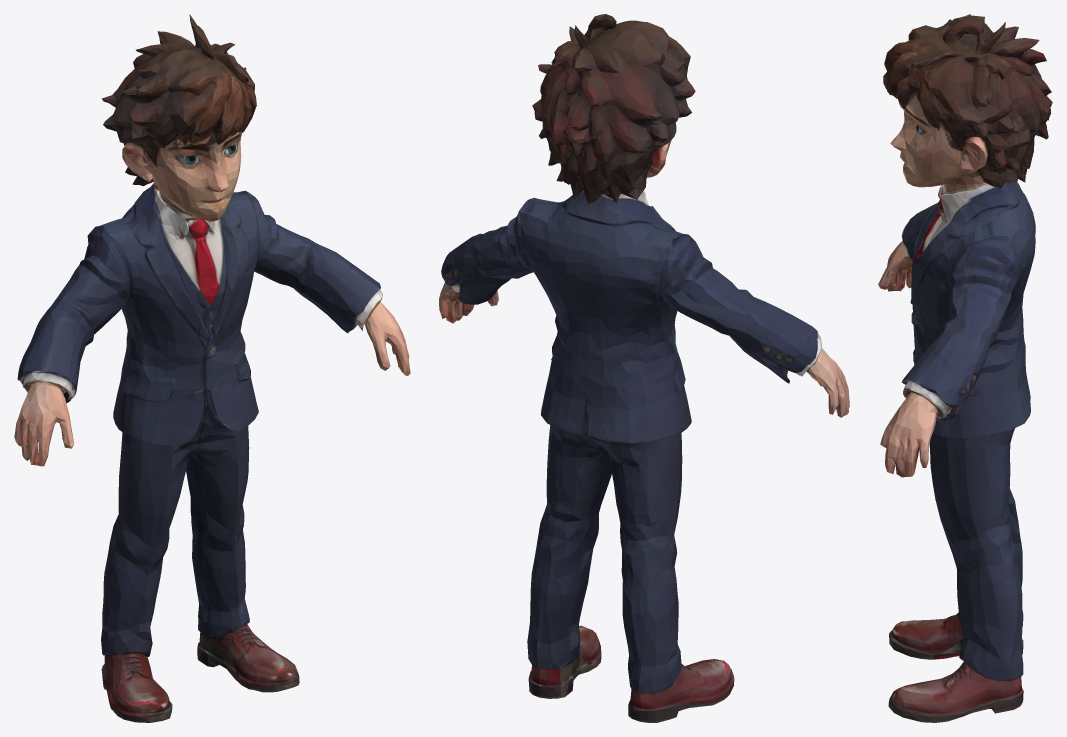
Rendered from Young_Professional_0530221802_texture.fbx.
3 views of the same model, side by side, from view 1: azimuth 30°, elevation 25°; view 2: azimuth 150°, elevation 25°; view 3: azimuth 270°, elevation 25° (orthographic). The views are drawn at different scales.
Parts seen in each view (by area): view 1: temp; view 2: temp; view 3: temp.
Part boxes in pixels (<box>): temp: <box>14,14,410,722</box>; temp: <box>439,14,849,722</box>; temp: <box>878,14,1052,722</box>.
Bounding box in the file's own units: 124 × 200 × 47.25.
Materials: 1 (1 with a texture image).
